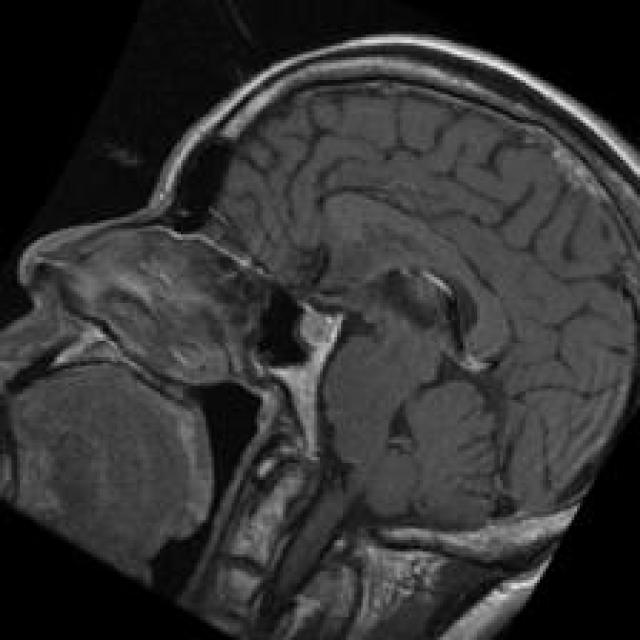pituitary_tumor: (286, 272, 360, 377)
